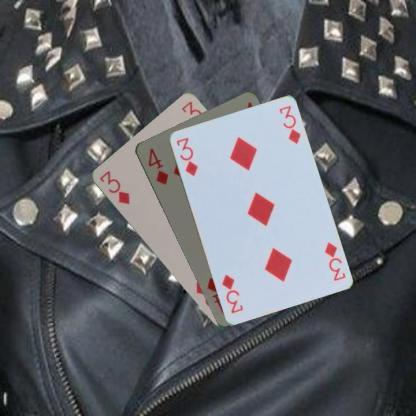3d: (95, 168, 130, 206), (321, 239, 347, 282), (174, 134, 198, 178)
4d: (144, 145, 170, 187)
